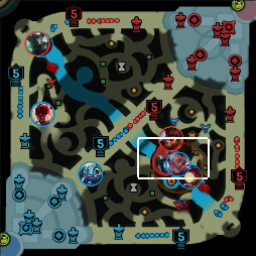fizz: (77, 162, 102, 185)
karthus: (151, 149, 174, 175)
leesin: (30, 101, 55, 125)
monkeyking: (157, 125, 182, 151)
mordekaiser: (24, 30, 49, 55)
rakan: (166, 152, 188, 175)
xayah: (177, 164, 201, 188)
